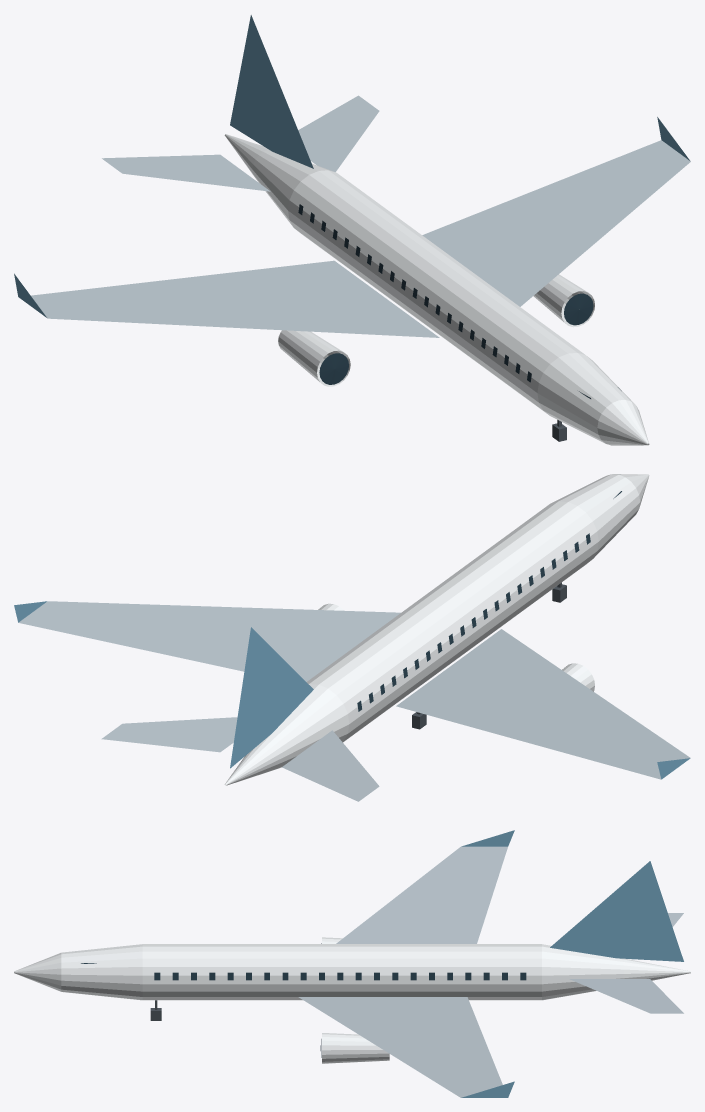
Rendered from b777-AAL.gltf.
The picture shows the model from 3 angles, top to bottom: view 1: azimuth 30°, elevation 25°; view 2: azimuth 150°, elevation 25°; view 3: azimuth 270°, elevation 25°; orthographic projection. The views are drawn at different scales.
Visible parts, largest first — view 1: object 1; view 2: object 1; view 3: object 1.
Part boxes in pixels (box(x1,y1,x2,y2)): object 1: box(14, 15, 690, 445); object 1: box(14, 474, 690, 801); object 1: box(14, 830, 690, 1097).
Size of the model in its own units: 65 by 19.16 by 74.
